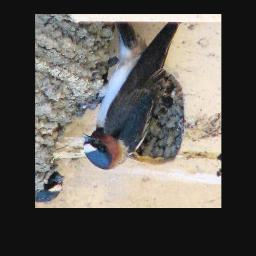Swallow: (83, 24, 186, 171)
